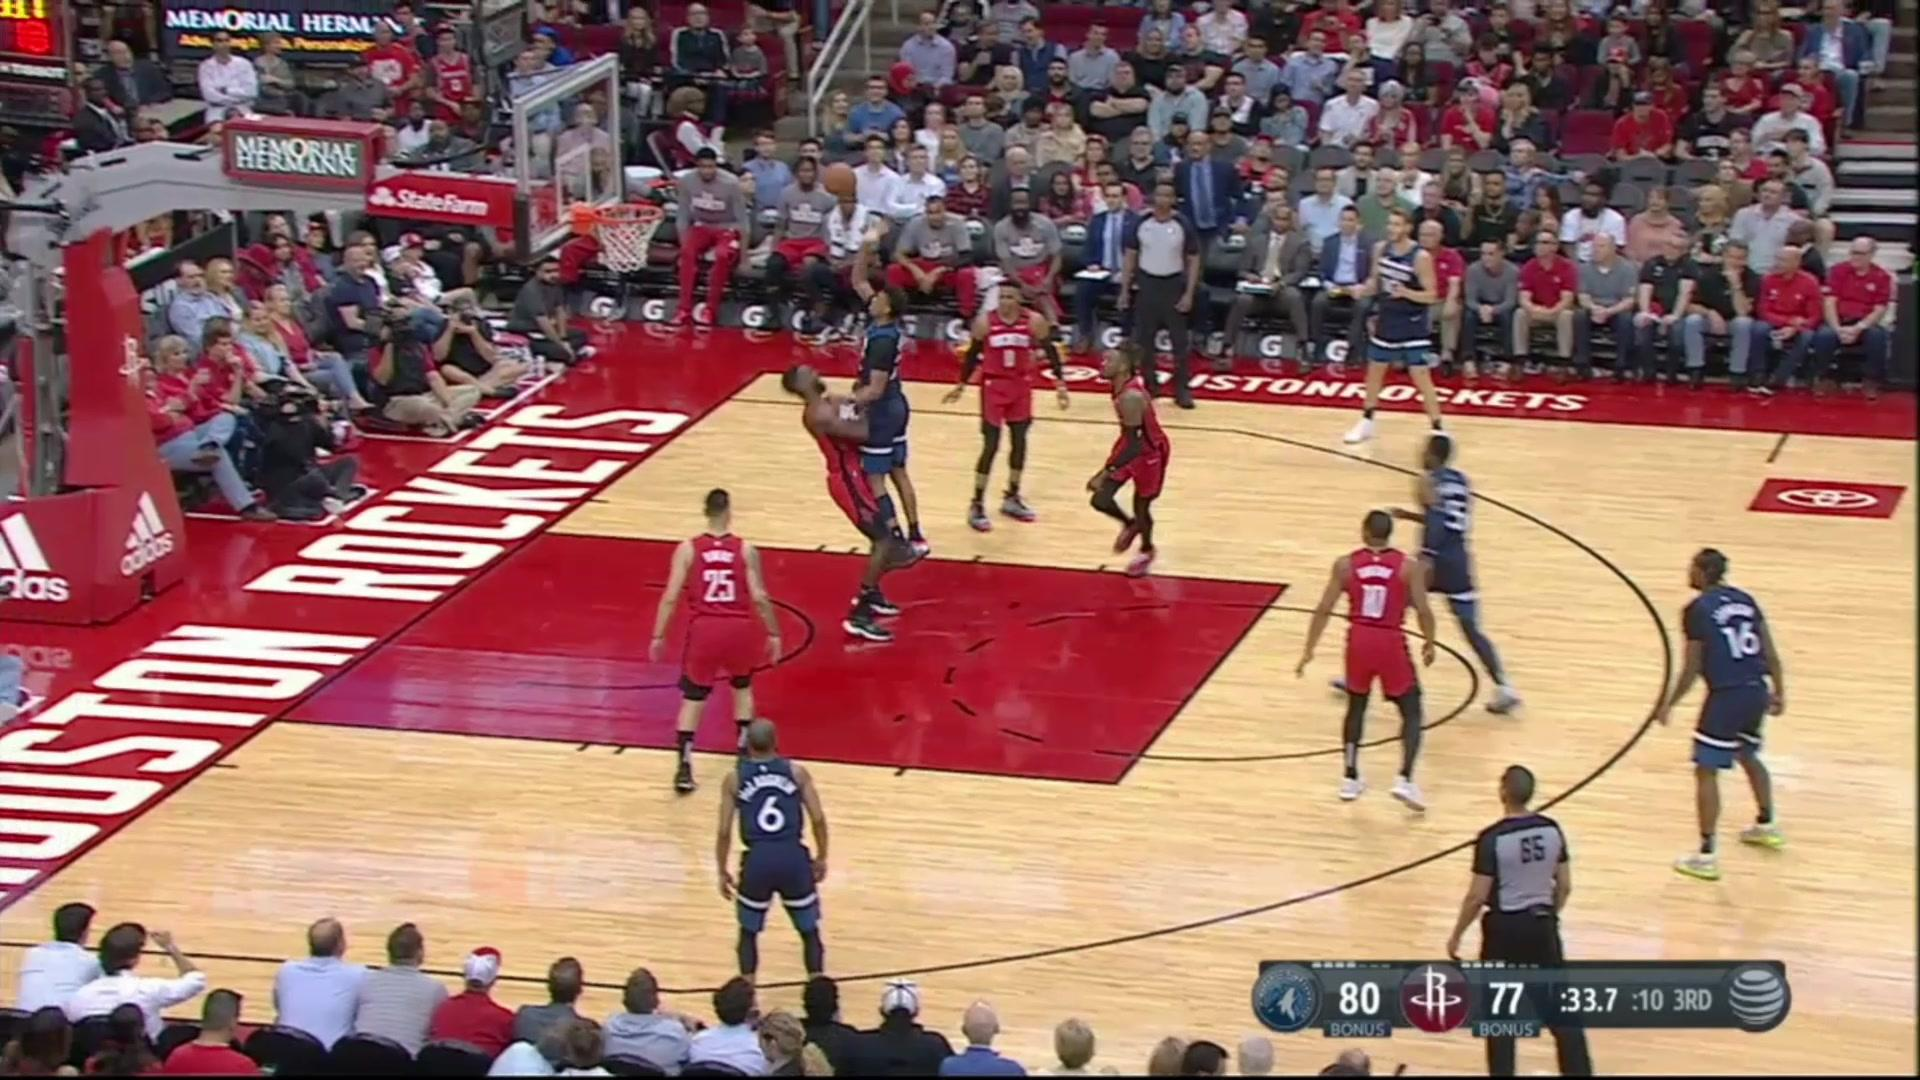foul: (785, 305, 948, 621)
